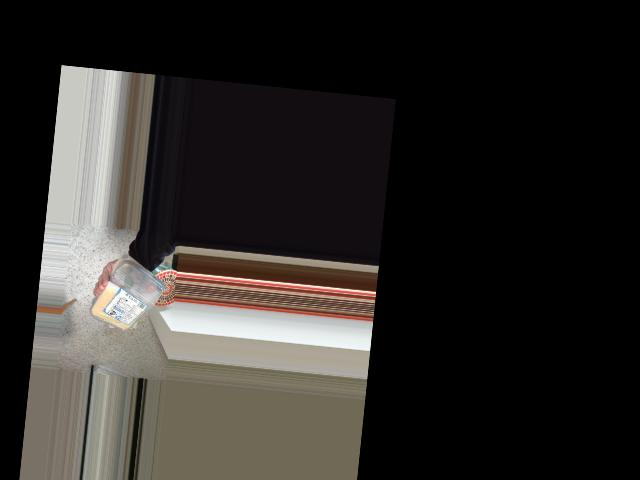cheese: (97, 261, 166, 336)
